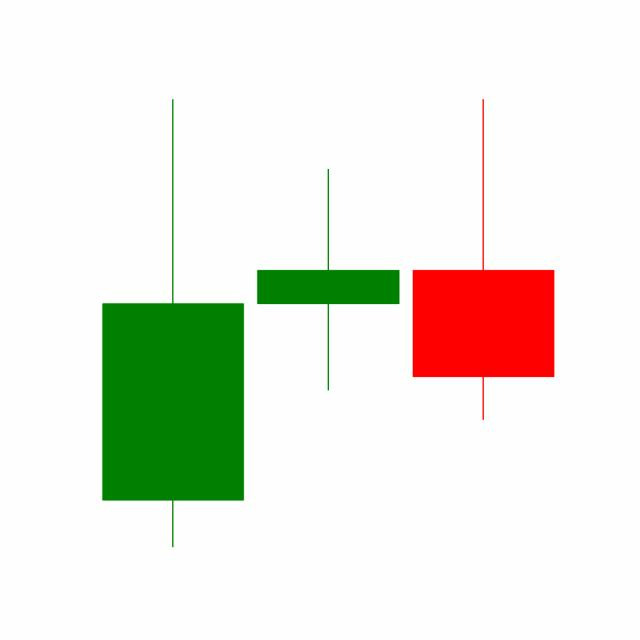Spinning Top: (249, 166, 406, 393)
